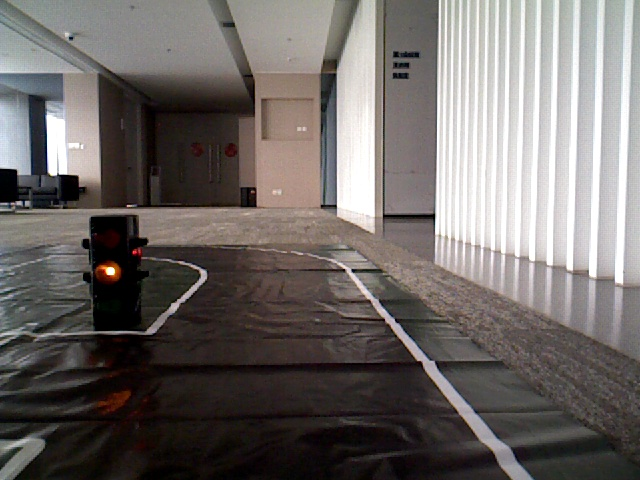yellow: (88, 217, 130, 311)
